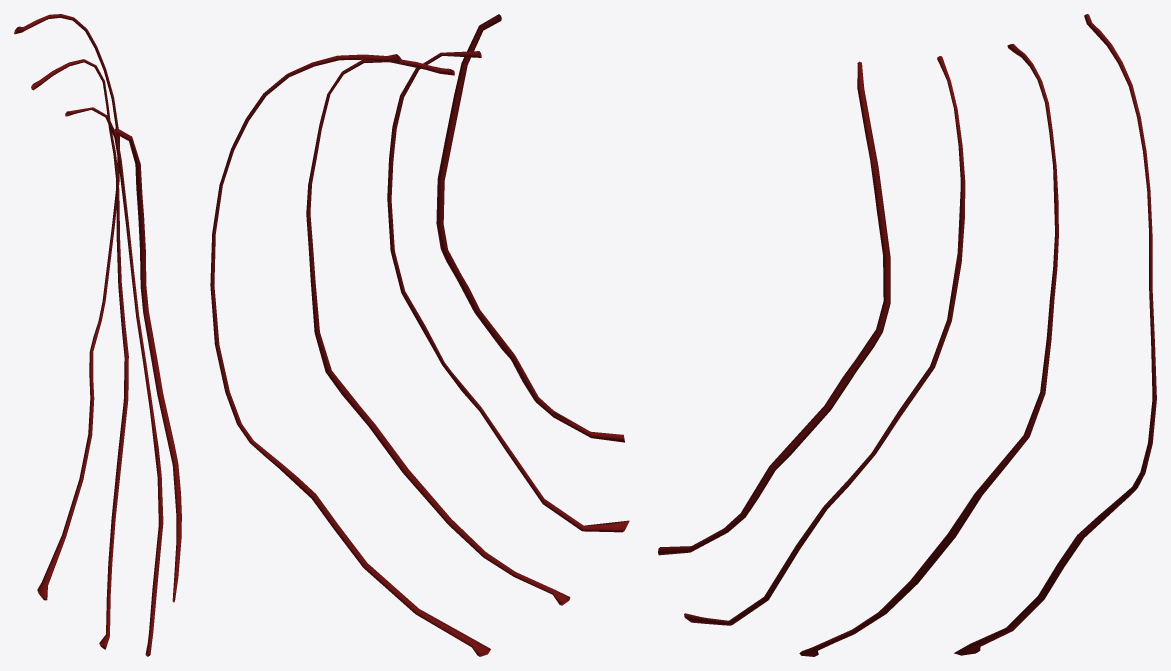
File: L intercostales dorsales II-V.fbx
3 views of the same model, side by side, from view 1: azimuth 30°, elevation 25°; view 2: azimuth 150°, elevation 25°; view 3: azimuth 270°, elevation 25° (orthographic). The views are drawn at different scales.
Parts seen in each view (by area): view 1: L intercostales dorsales II-V, L intercostales dorsales II-V low; view 2: L intercostales dorsales II-V, L intercostales dorsales II-V low; view 3: L intercostales dorsales II-V, L intercostales dorsales II-V low.
Boxes of the visible parts, <box> form: L intercostales dorsales II-V: <box>14,14,181,654</box>; L intercostales dorsales II-V low: <box>14,17,181,656</box>; L intercostales dorsales II-V: <box>210,14,629,656</box>; L intercostales dorsales II-V low: <box>212,14,627,655</box>; L intercostales dorsales II-V: <box>658,14,1156,656</box>; L intercostales dorsales II-V low: <box>661,14,1152,654</box>.
Bounding box in the file's own units: 9.9 × 31.58 × 21.64.
